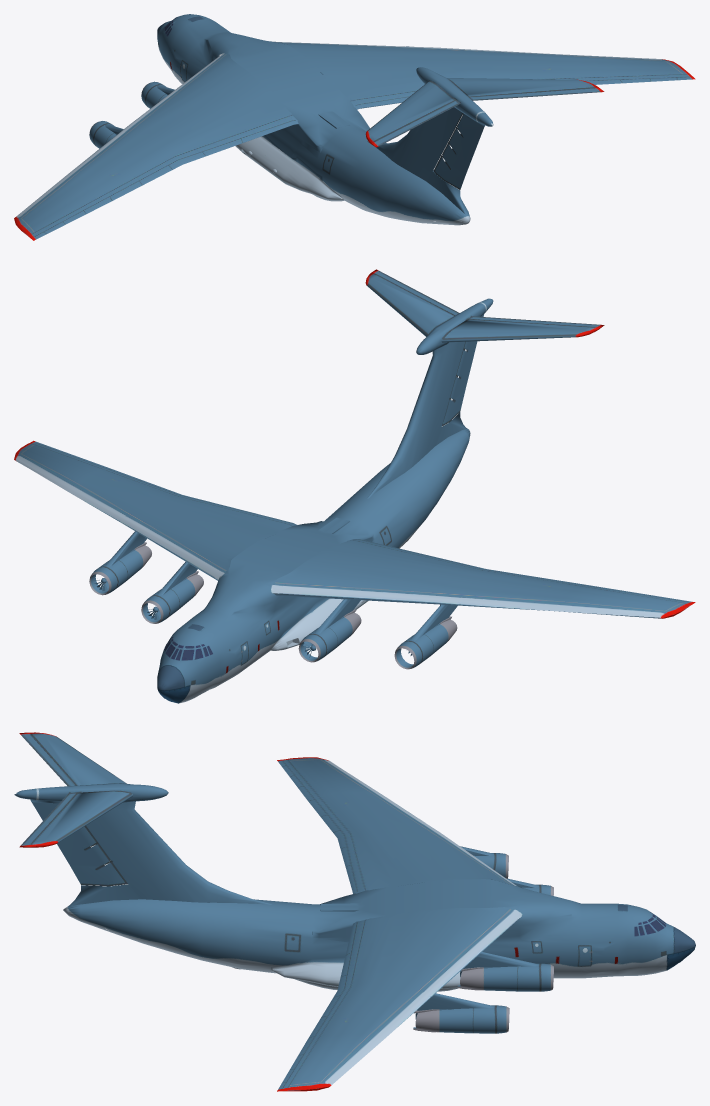
File: yjj.glb
The picture shows the model from 3 angles, top to bottom: view 1: azimuth 30°, elevation 25°; view 2: azimuth 150°, elevation 25°; view 3: azimuth 270°, elevation 25°; orthographic projection. The views are drawn at different scales.
Visible parts, largest first — view 1: 1_unfold3d001; view 2: 1_unfold3d001; view 3: 1_unfold3d001.
Part boxes in pixels (x1,y1,x2,y2): 1_unfold3d001: (14, 14, 695, 240); 1_unfold3d001: (14, 269, 695, 703); 1_unfold3d001: (14, 732, 695, 1091).
Size of the model in its own units: 54.95 by 15.36 by 47.76.
1 material, 1 textured.
